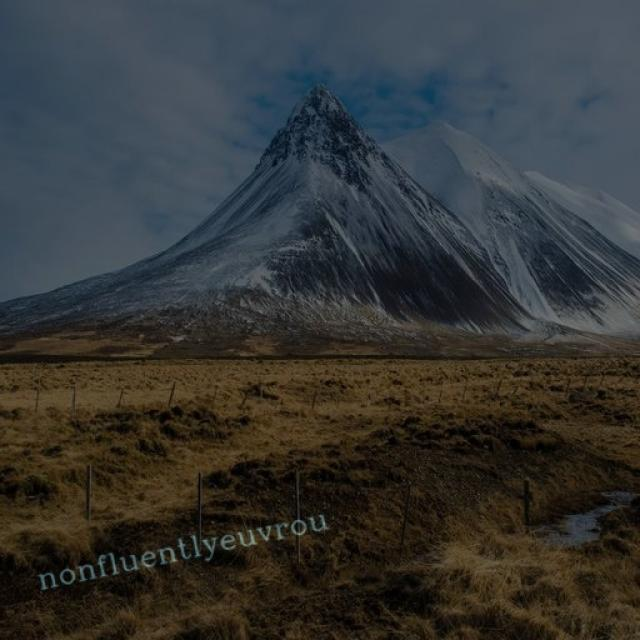watermark: (31, 504, 330, 594)
